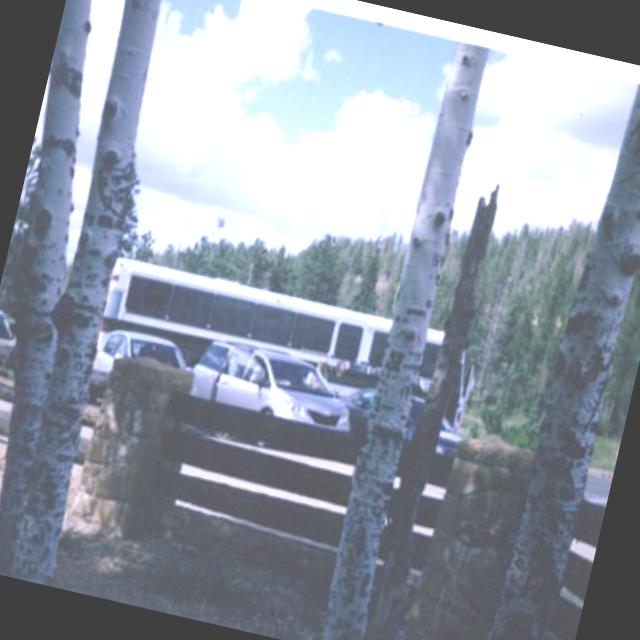Vehicle: (89, 254, 446, 444), (187, 333, 363, 429), (336, 379, 470, 458), (92, 322, 195, 391), (0, 307, 25, 355)
